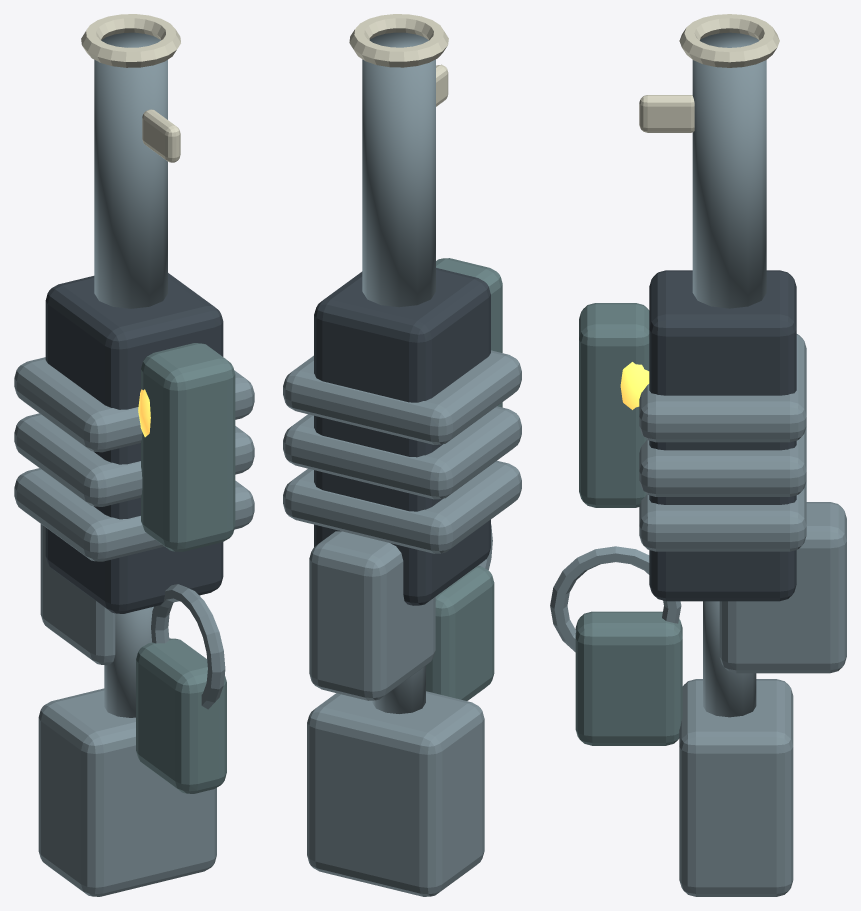
Rendered from YK_01_SoulRifle_Weapon_E01.glb.
The picture shows the model from 3 angles, left to right: view 1: azimuth 30°, elevation 25°; view 2: azimuth 150°, elevation 25°; view 3: azimuth 270°, elevation 25°; orthographic projection.
Parts seen in each view (by area): view 1: SM_YK_01_SoulRifle_Weapon_P00, SM_YK_01_SoulRifle_Weapon_P01; view 2: SM_YK_01_SoulRifle_Weapon_P00, SM_YK_01_SoulRifle_Weapon_P01; view 3: SM_YK_01_SoulRifle_Weapon_P00, SM_YK_01_SoulRifle_Weapon_P01.
Boxes of the visible parts, box(x1,y1,x2,y2) form: SM_YK_01_SoulRifle_Weapon_P00: box(38, 14, 235, 896); SM_YK_01_SoulRifle_Weapon_P01: box(14, 357, 254, 561); SM_YK_01_SoulRifle_Weapon_P00: box(307, 14, 502, 896); SM_YK_01_SoulRifle_Weapon_P01: box(283, 350, 521, 553); SM_YK_01_SoulRifle_Weapon_P00: box(550, 14, 846, 896); SM_YK_01_SoulRifle_Weapon_P01: box(639, 334, 806, 551).
Size of the model in its own units: 0.29 by 1.38 by 0.443.
